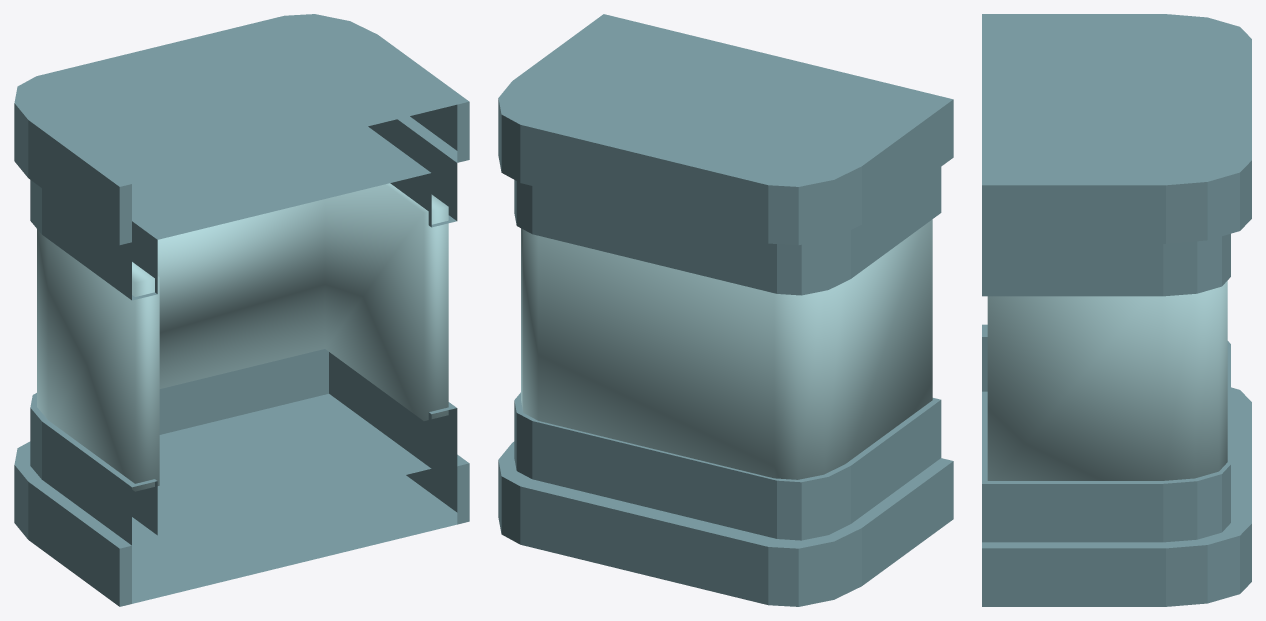
The model's file is PumpistCabin.fbx.
The picture shows the model from 3 angles, left to right: view 1: azimuth 30°, elevation 25°; view 2: azimuth 150°, elevation 25°; view 3: azimuth 270°, elevation 25°; orthographic projection.
Parts seen in each view (by area): view 1: PumpistCabin, PumpistCabinGlass; view 2: PumpistCabin, PumpistCabinGlass; view 3: PumpistCabin, PumpistCabinGlass.
Boxes of the visible parts, box(x1,y1,x2,y2) form: PumpistCabin: box(14, 14, 469, 606); PumpistCabinGlass: box(37, 183, 448, 491); PumpistCabin: box(498, 14, 953, 606); PumpistCabinGlass: box(521, 219, 932, 479); PumpistCabin: box(982, 14, 1251, 606); PumpistCabinGlass: box(987, 281, 1227, 480).
Size of the model in its own units: 18.57 by 12.35 by 21.31.
